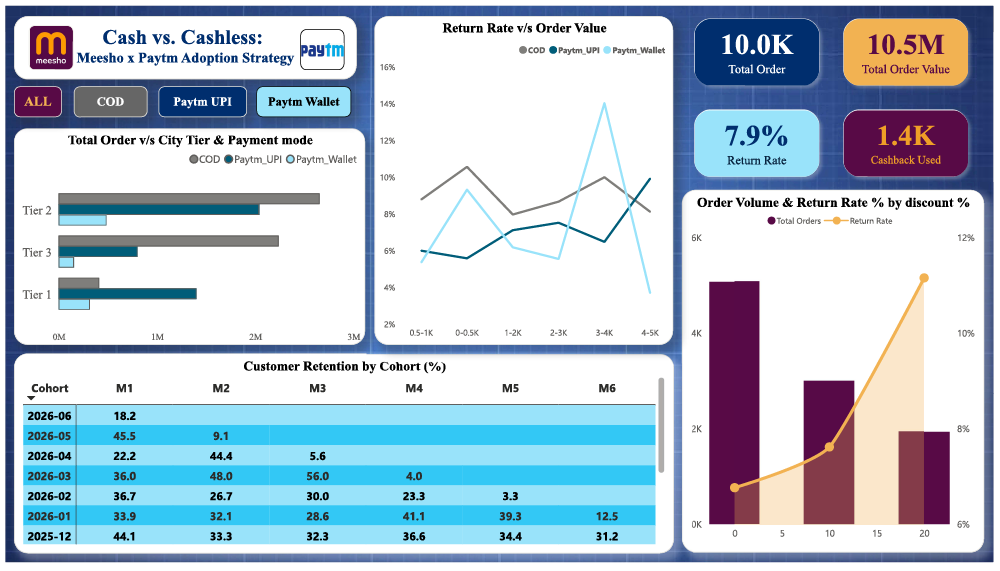

The dashboard page shown, as its layout file describes it:
{"tool":"powerbi","page":{"name":"Page 1","canvas":[1280,720],"ordinal":0},"visuals":[{"type":"cardVisual","fields":{"Data":["CountNonNull(orders.order_id)","Sum(orders.order_value)","orders.Return Rate %","Sum(payment_events.cashback_applied)"]},"box":[876.2,0,387.5,237.5],"z":0},{"type":"clusteredBarChart","title":"Total Order v/s City Tier & Payment mode","fields":{"Category":["customers.city_tier"],"Y":["Sum(orders.order_value)"],"Series":["orders.payment_method"]},"box":[11,158,455,281],"z":1000},{"type":"lineClusteredColumnComboChart","title":"Order Volume & Return Rate % by discount %","fields":{"Category":["orders.discount_pct"],"Y":["CountNonNull(orders.order_id)"],"Y2":["orders.Return Rate %"]},"box":[875.9,237.7,392.1,470.5],"z":2000},{"type":"pivotTable","title":"Customer Retention by Cohort (%)","fields":{"Rows":["cohort_data.Cohort"],"Columns":["cohort_data.Month Label"],"Values":["Sum(cohort_data.Retention %)"]},"box":[11.4,450,854.3,258.6],"z":3000},{"type":"lineChart","title":"Return Rate v/s Order Value","fields":{"Category":["orders.OrderValueBucket"],"Y":["orders.Return Rate %"],"Series":["orders.payment_method"]},"box":[477.5,12.5,387.5,426.2],"z":4000},{"type":"textbox","box":[10.9,13.3,444,82],"z":5000},{"type":"actionButton","box":[87.5,103.8,96.2,40],"z":6000},{"type":"actionButton","box":[197.5,103.8,115,40],"z":7000},{"type":"actionButton","box":[11.2,103.8,61.2,40],"z":8000},{"type":"actionButton","box":[325,103.8,122.5,40],"z":9000},{"type":"image","box":[30.2,25.3,57.9,57.9],"z":10000},{"type":"image","box":[382.4,30.2,56.7,53.1],"z":11000}]}

Visuals, with their boxes in screenshot pixels (x1, y1, x2, y2), scaled from the page's 1280x720 canvas onto the 1000x571 screenshot:
cardVisual - CountNonNull(orders.order_id) x Sum(orders.order_value): pyautogui.locateOnScreen(685, 0, 987, 188)
"Total Order v/s City Tier & Payment mode" clusteredBarChart: pyautogui.locateOnScreen(9, 125, 364, 348)
"Order Volume & Return Rate % by discount %" lineClusteredColumnComboChart: pyautogui.locateOnScreen(684, 189, 991, 562)
"Customer Retention by Cohort (%)" pivotTable: pyautogui.locateOnScreen(9, 357, 676, 562)
"Return Rate v/s Order Value" lineChart: pyautogui.locateOnScreen(373, 10, 676, 348)
textbox: pyautogui.locateOnScreen(9, 11, 355, 76)
actionButton: pyautogui.locateOnScreen(68, 82, 144, 114)
actionButton: pyautogui.locateOnScreen(154, 82, 244, 114)
actionButton: pyautogui.locateOnScreen(9, 82, 57, 114)
actionButton: pyautogui.locateOnScreen(254, 82, 350, 114)
image: pyautogui.locateOnScreen(24, 20, 69, 66)
image: pyautogui.locateOnScreen(299, 24, 343, 66)
